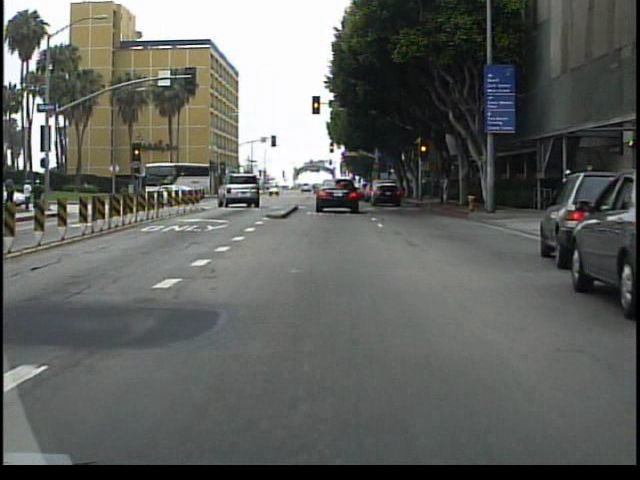person: (438, 167, 453, 208), (5, 172, 20, 208), (24, 176, 38, 213), (34, 175, 47, 206)
